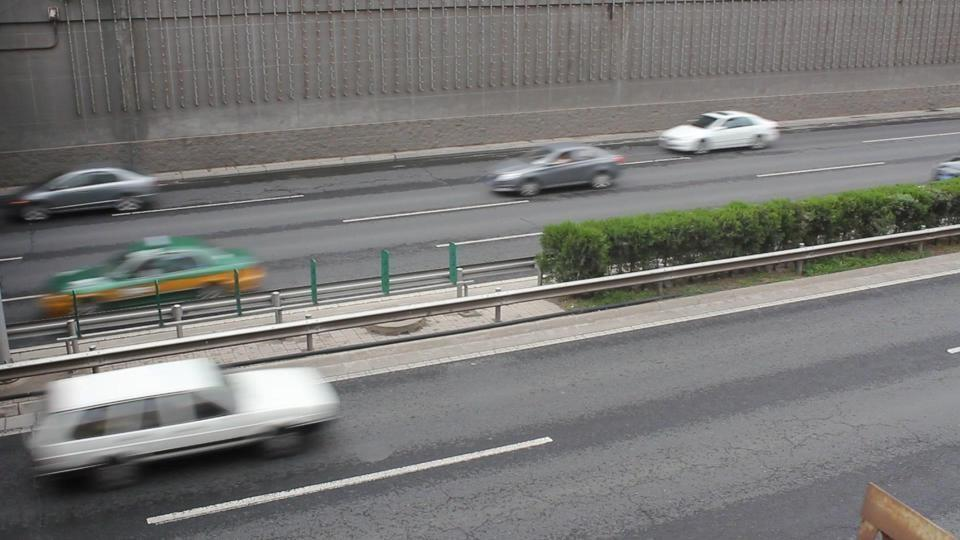car: (24, 355, 342, 486), (37, 238, 269, 314), (1, 165, 161, 223), (483, 142, 626, 199), (657, 110, 782, 155), (931, 157, 960, 182)
